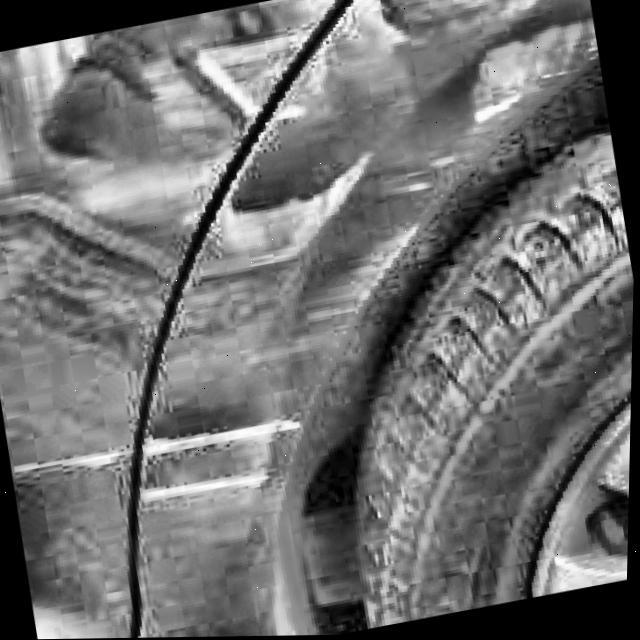door_scratch: (17, 406, 300, 538)
